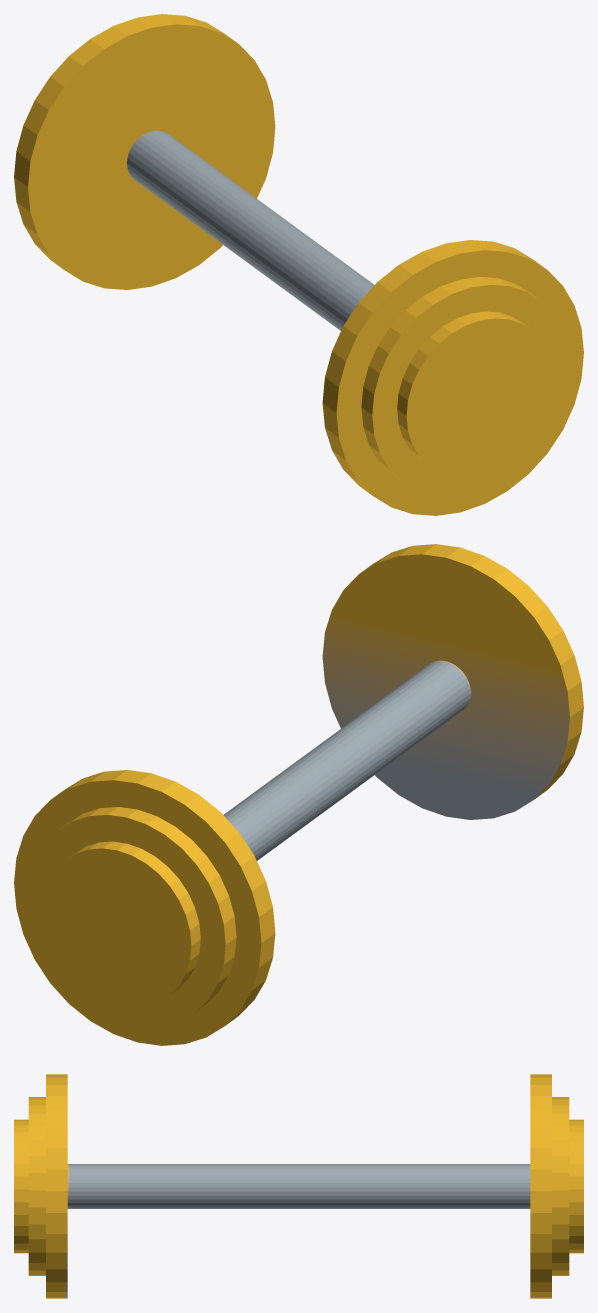
Rendered from pesa.obj.
3 views of the same model, one above another, from view 1: azimuth 30°, elevation 25°; view 2: azimuth 150°, elevation 25°; view 3: azimuth 270°, elevation 25° (orthographic). The views are drawn at different scales.
Parts seen in each view (by area): view 1: Mesh; view 2: Mesh; view 3: Mesh.
Part boxes in pixels (box(x1,y1,x2,y2)): Mesh: box(14, 14, 583, 515); Mesh: box(14, 544, 583, 1045); Mesh: box(14, 1074, 583, 1298).
Bounding box in the file's own units: 3.11 × 3.11 × 7.89.
Materials: 1 (1 with a texture image).
